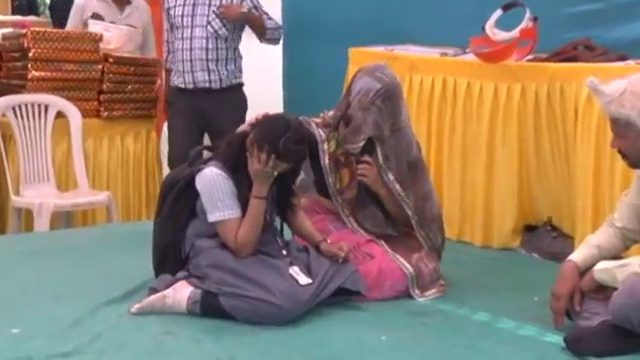helmet: (85, 17, 148, 55)
helmet_off: (239, 112, 314, 185), (591, 72, 640, 174), (339, 59, 402, 137)
person: (135, 104, 322, 316), (293, 55, 445, 301), (549, 70, 640, 355), (163, 0, 282, 174), (65, 0, 162, 61)
